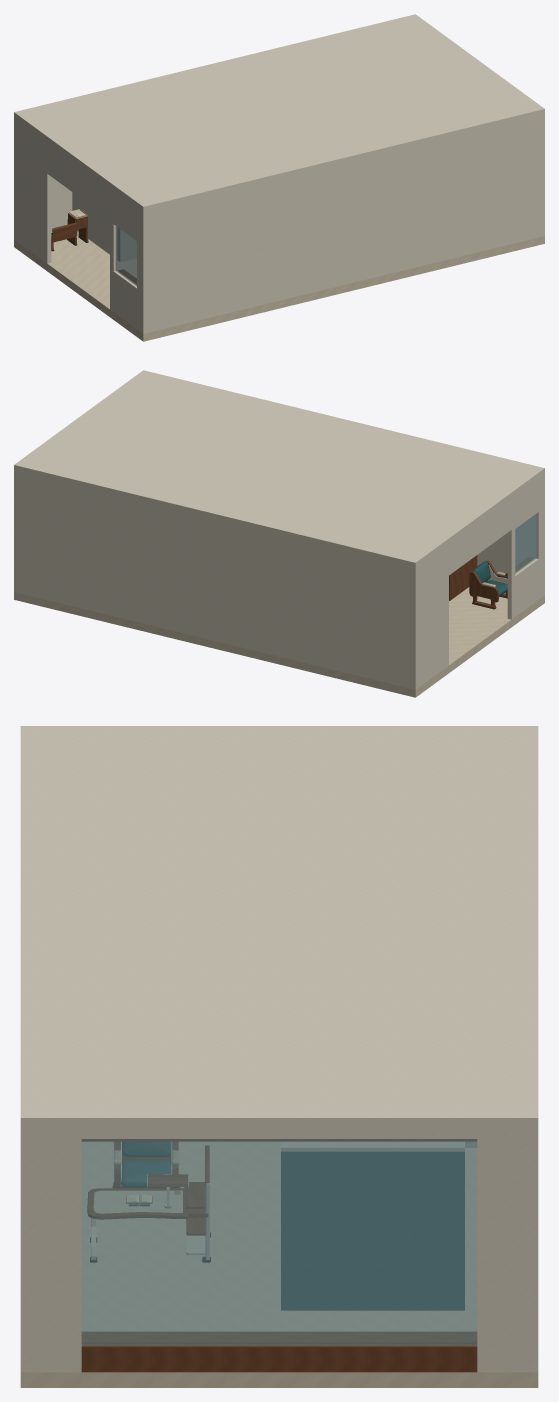
The model's file is QuietGroveSpecialty_129_r002.glb.
3 renders of one model, top to bottom at view 1: azimuth 30°, elevation 25°; view 2: azimuth 150°, elevation 25°; view 3: azimuth 270°, elevation 25°, orthographic. The views are drawn at different scales.
Parts seen in each view (by area): view 1: QG129_Ceiling, QG129_NorthSide, QG129_RoomFloor, QG129_EntryShoulderSouth, QG129_EntryHeader, QG129_StreetWindowLower, QG129_WashEntrySide, QG129_SouthSide, QG129_StreetWindowUpper, QG129_ScreenedStreetGlass; view 2: QG129_Ceiling, QG129_SouthSide, QG129_RoomFloor, QG129_EntryShoulderSouth, QG129_EntryHeader, QG129_NorthSide, QG129_StreetWindowLower, QG129_StreetWindowUpper, QG129_ScreenedStreetGlass, QG129_EntryPrivacyDogleg, QG129_QG129_StreetReadingChair__DAY_CHAIR_R_swept_walnut_che, QG129_StreetWindowInnerMullion; view 3: QG129_Ceiling, QG129_CourtPanoramicGlass, QG129_RoomFloor, QG129_Cocoon01_RearLiner, QG129_CourtJambNorth, QG129_CourtJambSouth, QG129_CourtSill, QG129_CourtHeader, QG129_CourtRevealBottom, QG129_NorthSide, QG129_SouthSide, QG129_Cocoon01_Roof (+4 smaller).
Part boxes in pixels (x1,y1,x2,y2): QG129_Ceiling: (14,14,544,211); QG129_NorthSide: (141,114,544,333); QG129_RoomFloor: (14,231,544,341); QG129_EntryShoulderSouth: (16,119,51,263); QG129_EntryHeader: (46,141,110,219); QG129_StreetWindowLower: (110,269,141,331); QG129_WashEntrySide: (72,192,123,261); QG129_SouthSide: (14,117,72,240); QG129_StreetWindowUpper: (110,188,141,243); QG129_ScreenedStreetGlass: (115,226,136,285); QG129_Ceiling: (14,370,544,567); QG129_SouthSide: (14,470,417,689); QG129_RoomFloor: (14,587,544,697); QG129_EntryShoulderSouth: (417,544,448,687); QG129_EntryHeader: (449,497,512,575); QG129_NorthSide: (477,473,544,596); QG129_StreetWindowLower: (507,556,542,619); QG129_StreetWindowUpper: (510,475,542,531); QG129_ScreenedStreetGlass: (515,514,536,573); QG129_EntryPrivacyDogleg: (449,555,477,600); QG129_QG129_StreetReadingChair__DAY_CHAIR_R_swept_walnut_che: (469,571,498,602); QG129_StreetWindowInnerMullion: (507,529,515,578); QG129_Ceiling: (20,726,538,1128); QG129_CourtPanoramicGlass: (81,1139,477,1345); QG129_RoomFloor: (20,1142,538,1387); QG129_Cocoon01_RearLiner: (285,1152,460,1310); QG129_CourtJambNorth: (477,1124,538,1372); QG129_CourtJambSouth: (20,1124,81,1372); QG129_CourtSill: (81,1344,477,1372); QG129_CourtHeader: (81,1124,477,1138); QG129_CourtRevealBottom: (82,1332,476,1343); QG129_NorthSide: (20,1128,29,1372); QG129_SouthSide: (529,1128,538,1372); QG129_Cocoon01_Roof: (281,1142,464,1151).
Size of the model in its own units: 12.9 by 4.14 by 7.2.
Materials: 64 (49 with a texture image).
